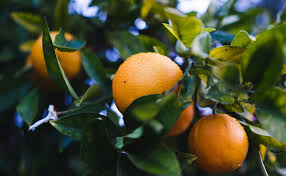orange: (113, 48, 196, 136), (188, 107, 249, 172), (29, 31, 82, 80)
